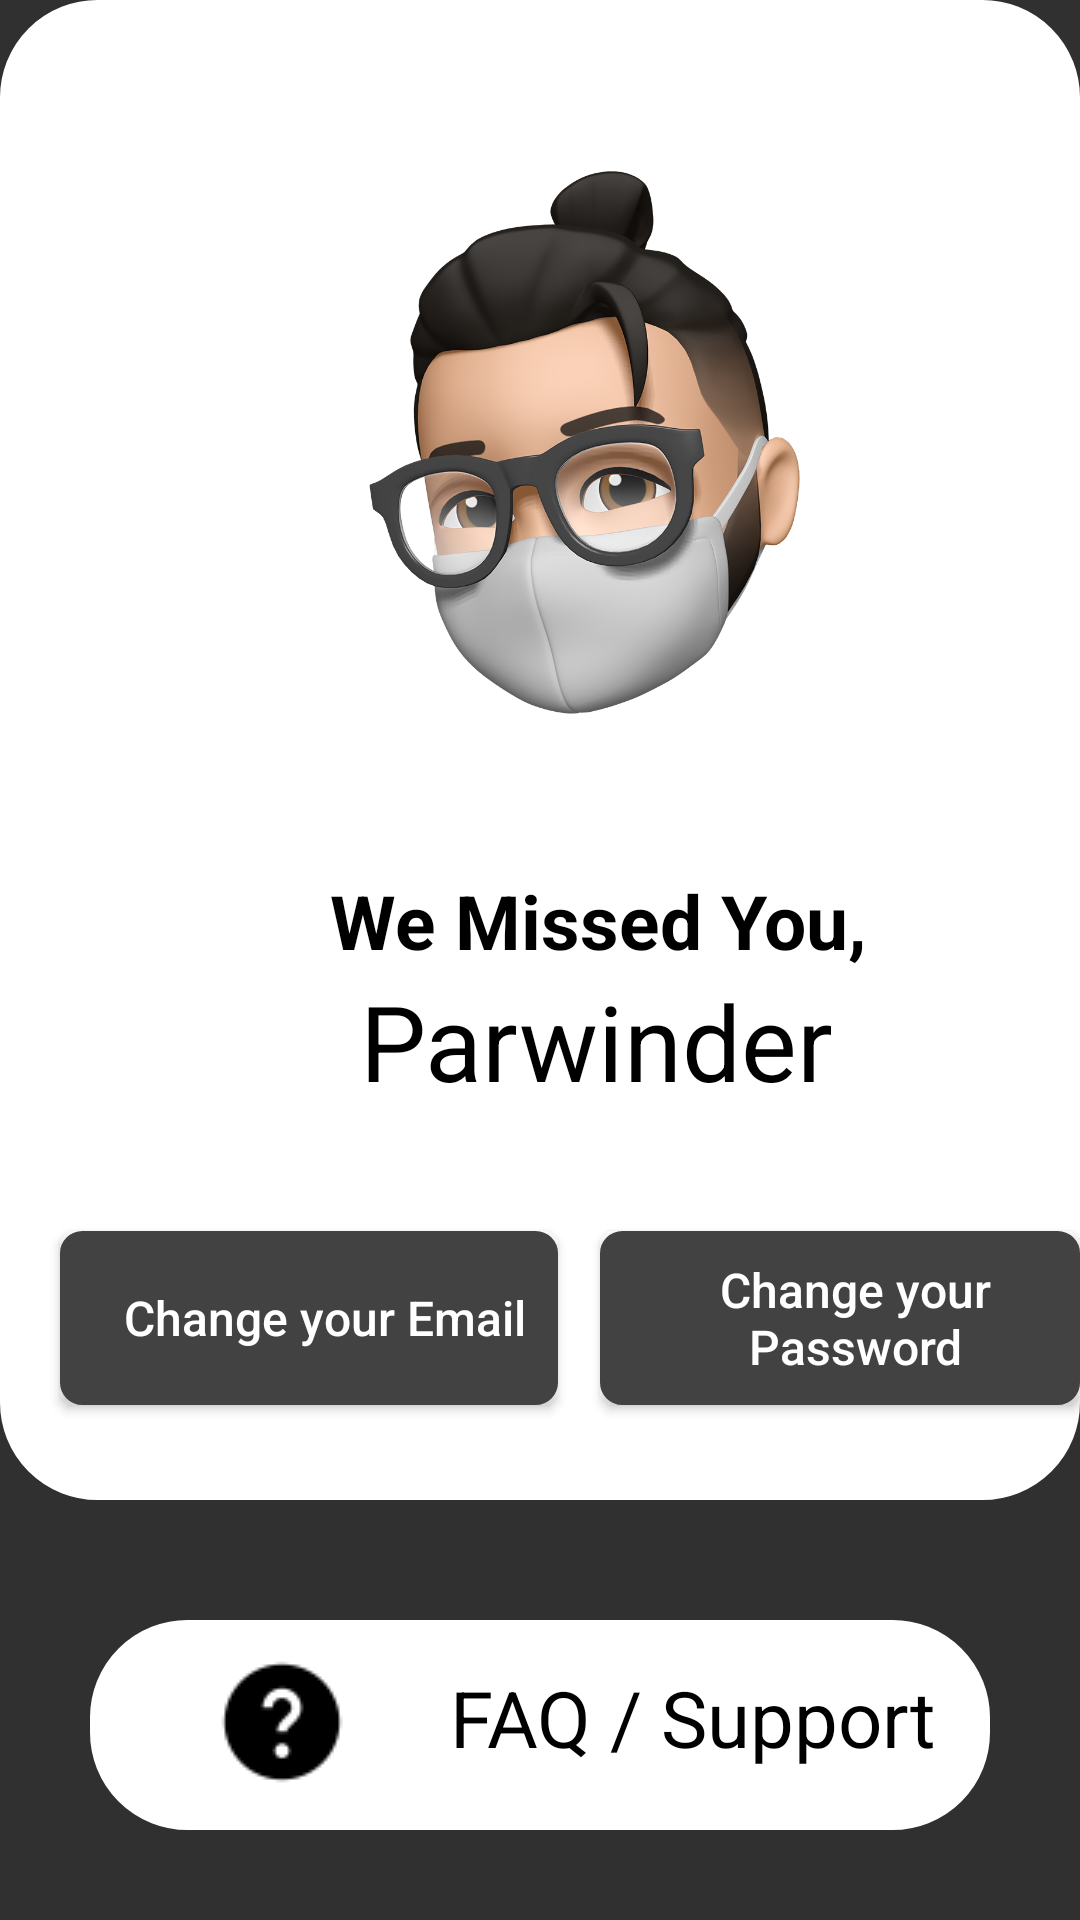

Point at icon controls on the screen. Image size 1080 × 1920, points as (x,y).
help: (282,1722)
